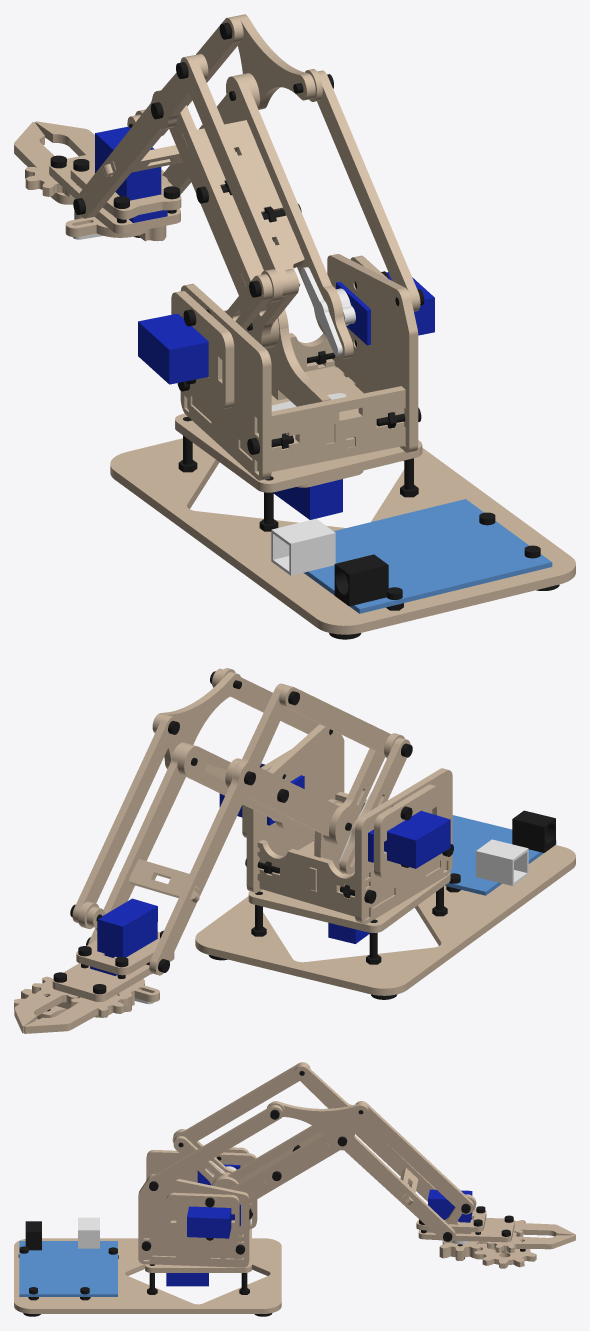
Rendered from _mearm_1.ab058554-9171-4de9-9e98-bf6e5f306d0f v3.fbx.
The picture shows the model from 3 angles, top to bottom: view 1: azimuth 30°, elevation 25°; view 2: azimuth 150°, elevation 25°; view 3: azimuth 270°, elevation 25°; orthographic projection. The views are drawn at different scales.
Parts seen in each view (by area): view 1: Body1 (×29), body, Body4 (×3), usb, dc_plug, Arm; view 2: Body1 (×24), Body4 (×3), body, usb, Arm, dc_plug; view 3: Body1 (×23), body, Body4 (×3), usb, dc_plug.
Boxes of the visible parts, x1,y1,x2,y2 form: Body1 (×29): [14, 14, 575, 634]; body: [303, 499, 552, 613]; Body4 (×3): [95, 126, 342, 519]; usb: [271, 518, 335, 575]; dc_plug: [334, 554, 388, 606]; Arm: [224, 274, 272, 330]; Body1 (×24): [14, 668, 575, 1033]; Body4 (×3): [97, 816, 450, 943]; body: [445, 815, 556, 895]; usb: [476, 839, 528, 885]; Arm: [339, 737, 410, 874]; dc_plug: [512, 810, 555, 852]; Body1 (×23): [14, 1062, 575, 1313]; body: [19, 1241, 117, 1296]; Body4 (×3): [166, 1189, 472, 1286]; usb: [78, 1217, 99, 1248]; dc_plug: [25, 1221, 41, 1250].
Size of the model in its own units: 92.62 by 130 by 304.
